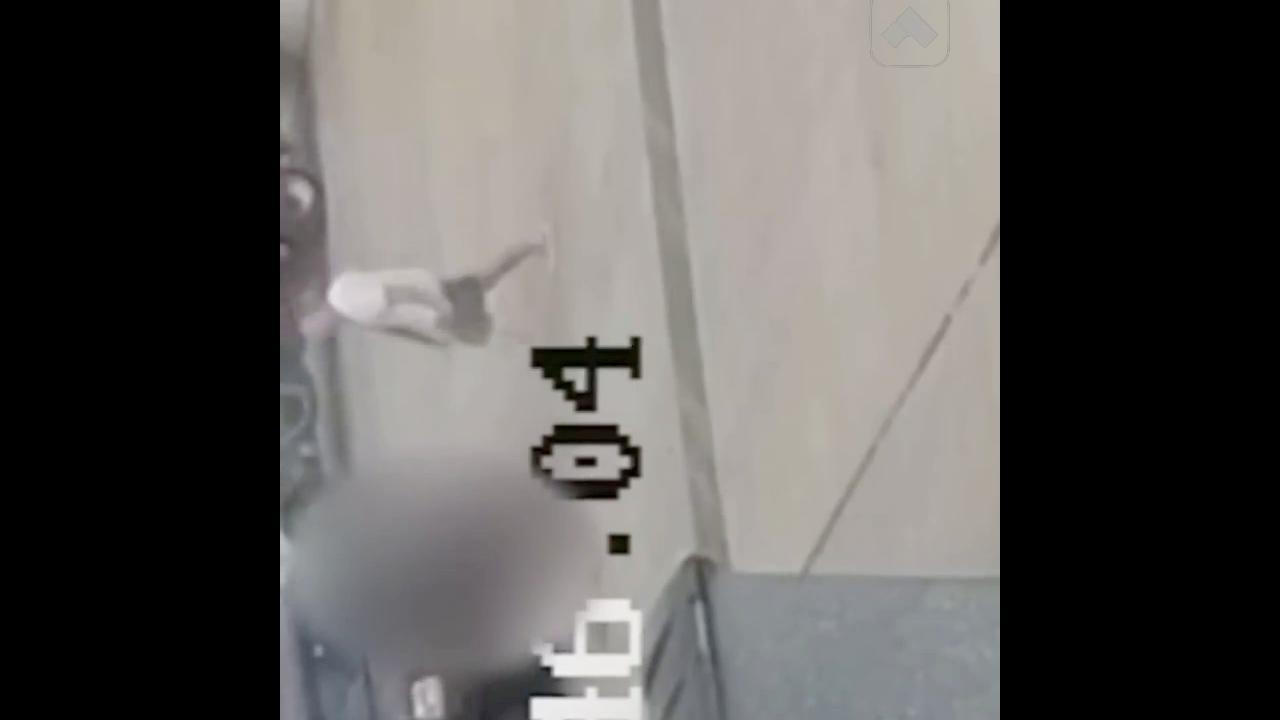gun: (360, 312, 461, 354)
